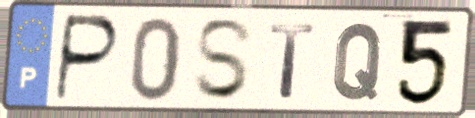0: (126, 14, 185, 104)
5: (393, 17, 459, 109)
P: (51, 12, 123, 104)
Q: (330, 21, 386, 104)
S: (191, 17, 257, 104)
T: (267, 22, 318, 101)
